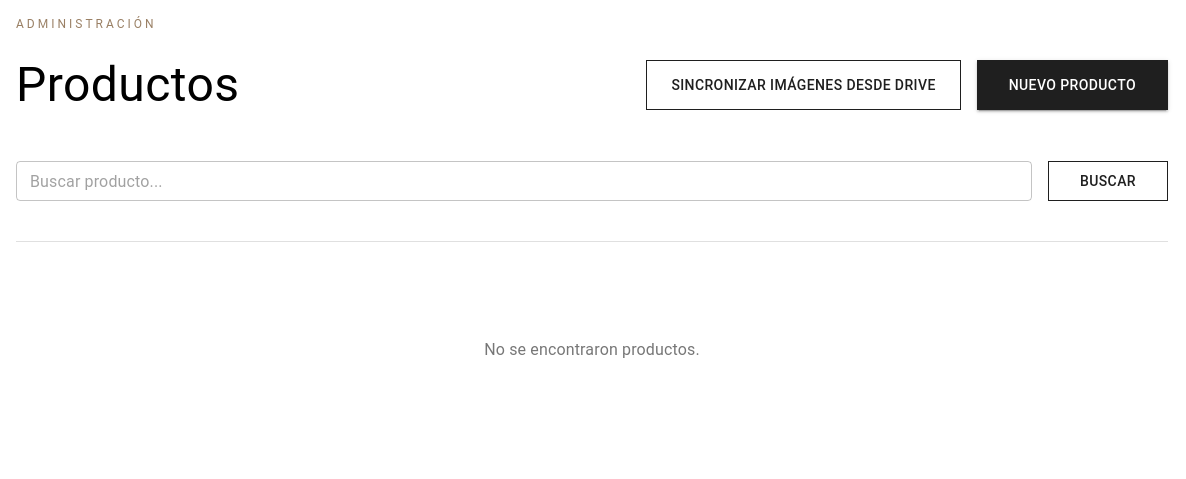
Test case: AdminProducts › syncs images from Drive and shows the result summary
The width and height of the screenshot is (1186, 479).
Expected: the text "No se encontraron productos." is shown, [484, 340, 700, 359]
Click the button "Sincronizar imágenes desde Drive" at [804, 85], box [646, 60, 961, 110]
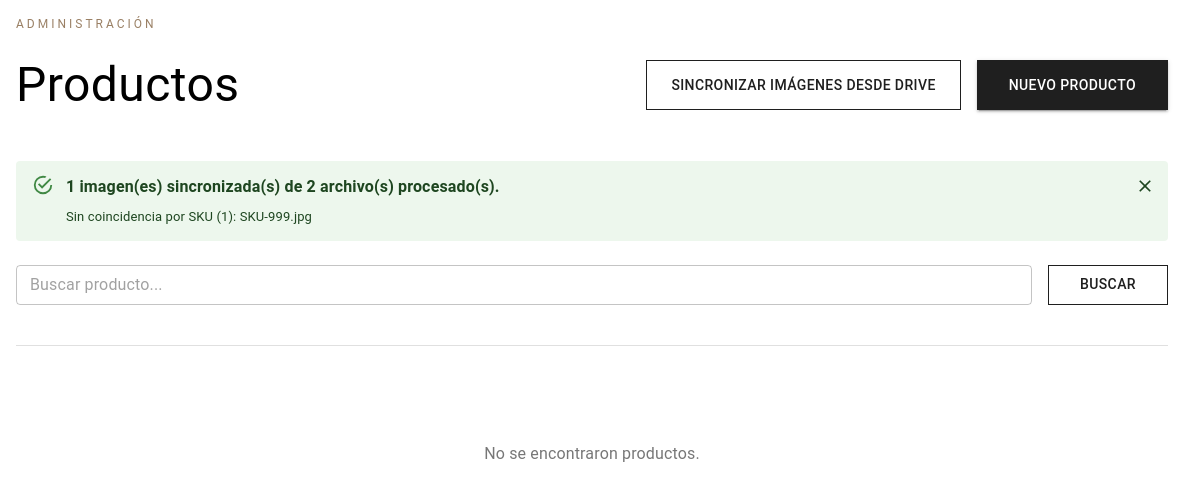
Now the text "1 imagen(es) sincronizada(s) de 2 archivo(s) procesado(s)." is shown, box [66, 175, 500, 199]
Now the text "Sin coincidencia por SKU (1): SKU-999.jpg" is shown, box [66, 209, 312, 224]
